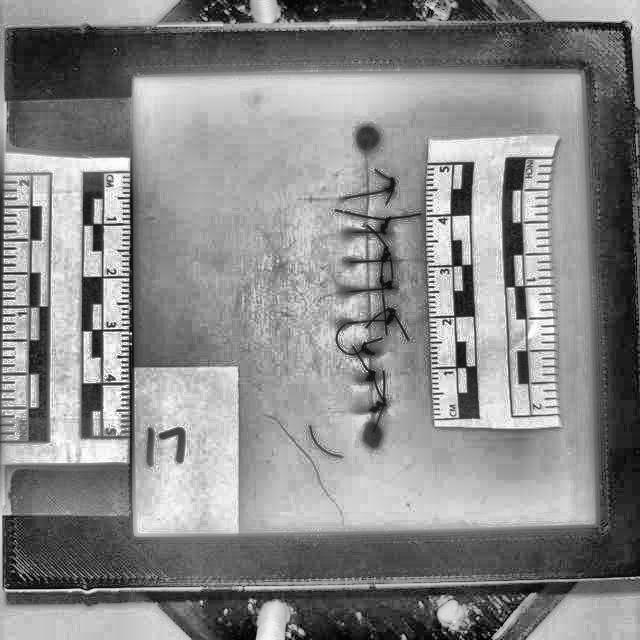incision_line: (364, 132, 377, 436)
scale_marker: (432, 368, 460, 418)
suture_d: (365, 378, 377, 408), (366, 288, 376, 322), (365, 321, 375, 354), (366, 353, 376, 380), (366, 260, 375, 290), (369, 194, 376, 231), (367, 230, 375, 259)
suture_l: (354, 343, 370, 354), (346, 319, 374, 325), (350, 258, 370, 266), (351, 229, 369, 237), (345, 194, 369, 200), (346, 288, 369, 294), (363, 406, 374, 414), (362, 375, 372, 381)
suture_r: (368, 185, 397, 197), (367, 284, 389, 294), (368, 258, 392, 265), (371, 319, 389, 324), (368, 231, 390, 235), (372, 408, 384, 414), (368, 351, 376, 357), (370, 375, 375, 382)
